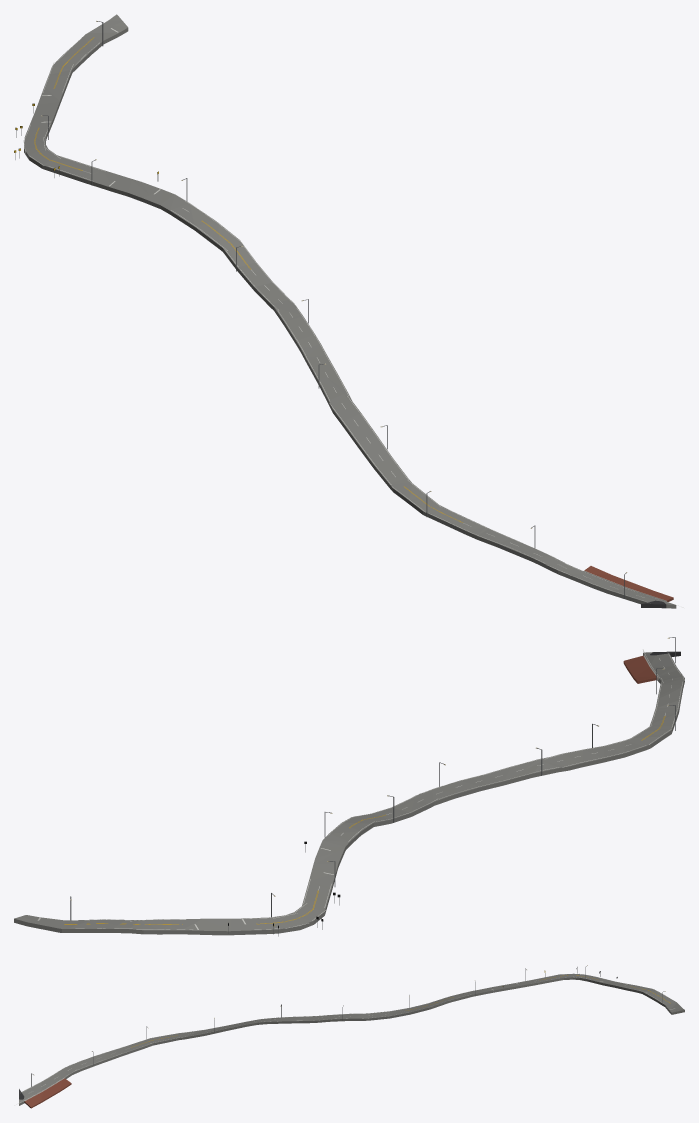
3 views of the same model, one above another, from view 1: azimuth 30°, elevation 25°; view 2: azimuth 150°, elevation 25°; view 3: azimuth 270°, elevation 25° (orthographic). The views are drawn at different scales.
Size of the model in its own units: 63.95 by 58.4 by 327.
